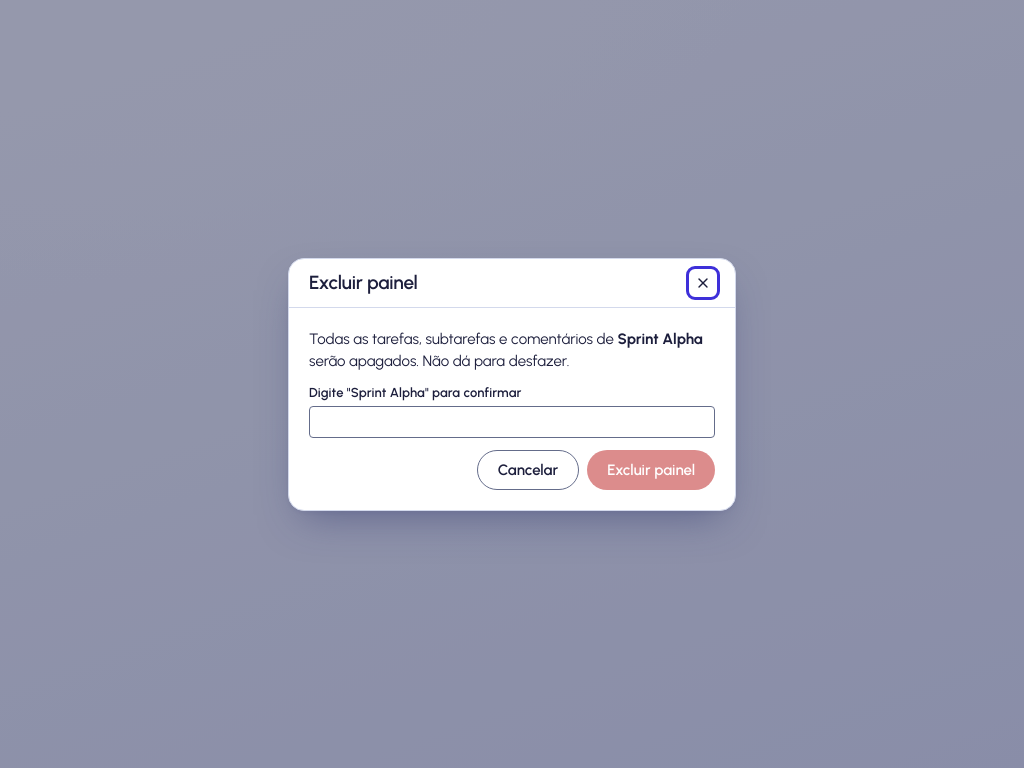
Test case: ExcluirBoardDialog › "Excluir painel" fica desabilitado até digitar o nome exato do board
Check: the button "Excluir painel" is disabled, box [587,450,715,490]
In the field labelled "Digite \"Sprint Alpha\" para confirmar": (512, 422) [309,406,715,438], type "Sprint Alph"
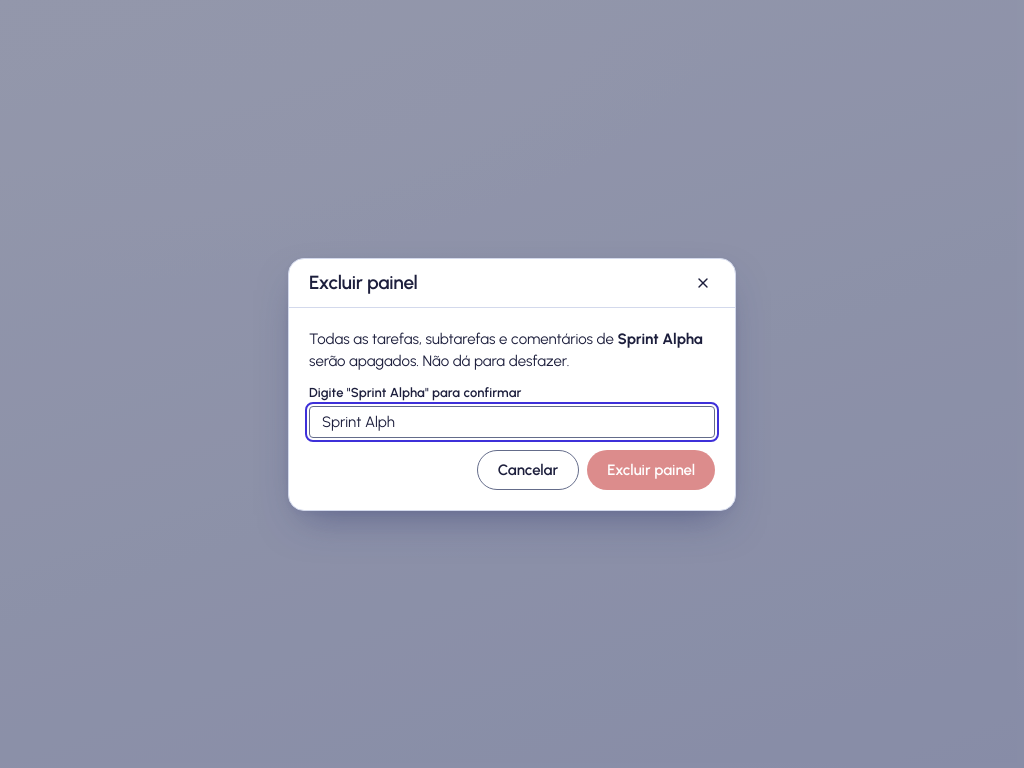
Check: the button "Excluir painel" is disabled, box [587,450,715,490]
In the field labelled "Digite \"Sprint Alpha\" para confirmar": (512, 422) [309,406,715,438], type "a"
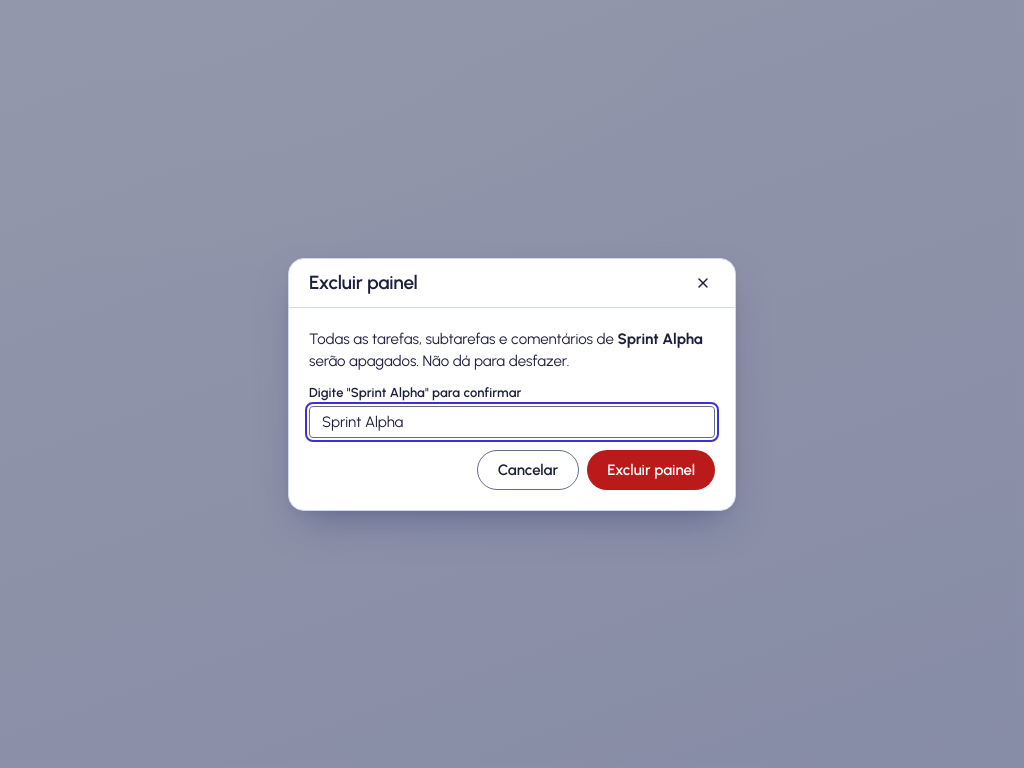
Check: the button "Excluir painel" is enabled, box [587,450,715,490]
